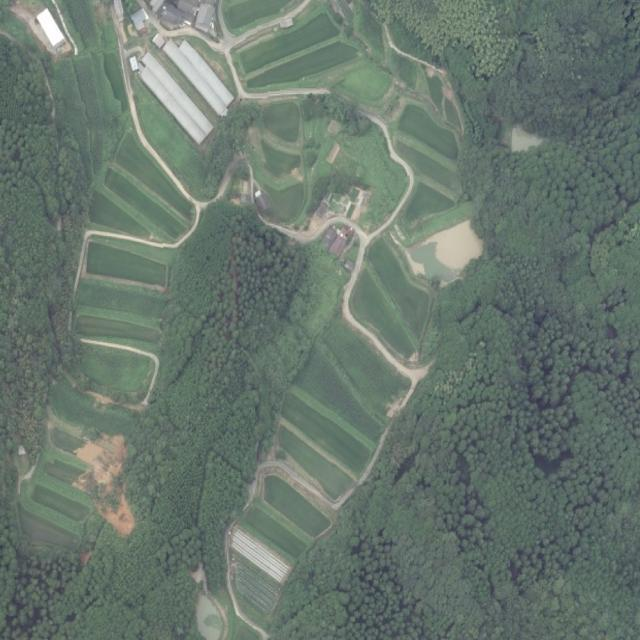landslide: (73, 434, 135, 537)
